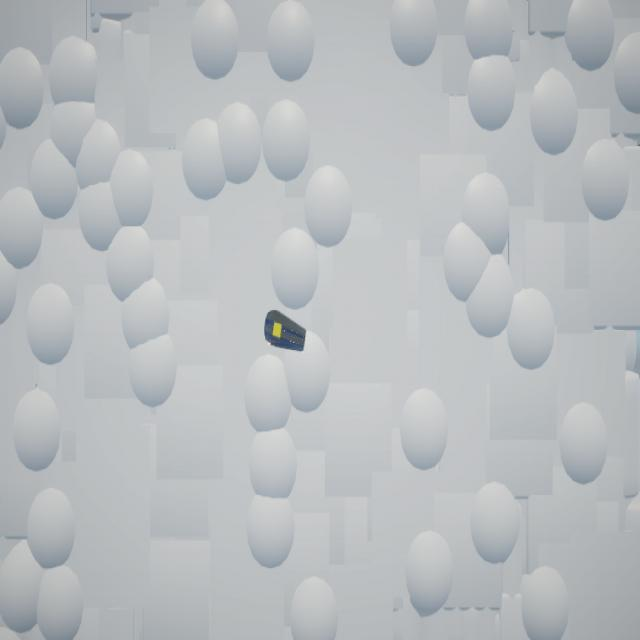handle_folk: (265, 311, 307, 353)
